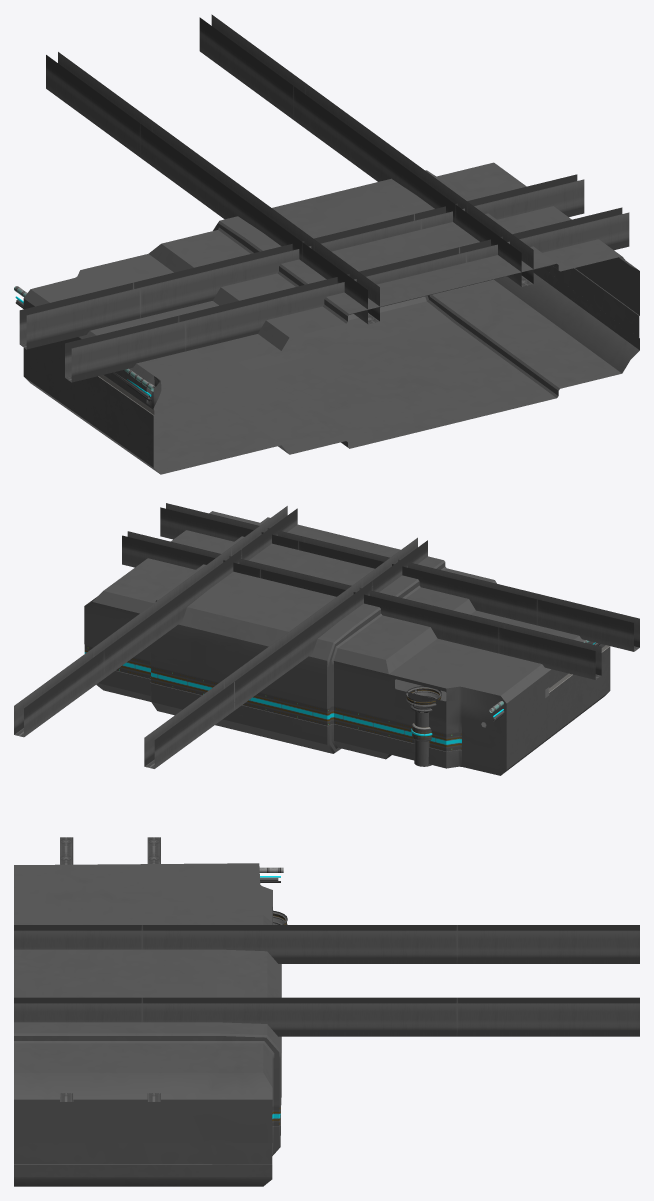
File: HANGAR.obj
3 renders of one model, top to bottom at view 1: azimuth 30°, elevation 25°; view 2: azimuth 150°, elevation 25°; view 3: azimuth 270°, elevation 25°, orthographic. The views are drawn at different scales.
Visible parts, largest first — view 1: HANGAR; view 2: HANGAR; view 3: HANGAR.
Part boxes in pixels (<box>): HANGAR: <box>14,14,639,474</box>; HANGAR: <box>14,503,639,775</box>; HANGAR: <box>14,837,639,1186</box>.
Size of the model in its own units: 315 by 83.22 by 315.
1 material, 1 textured.
